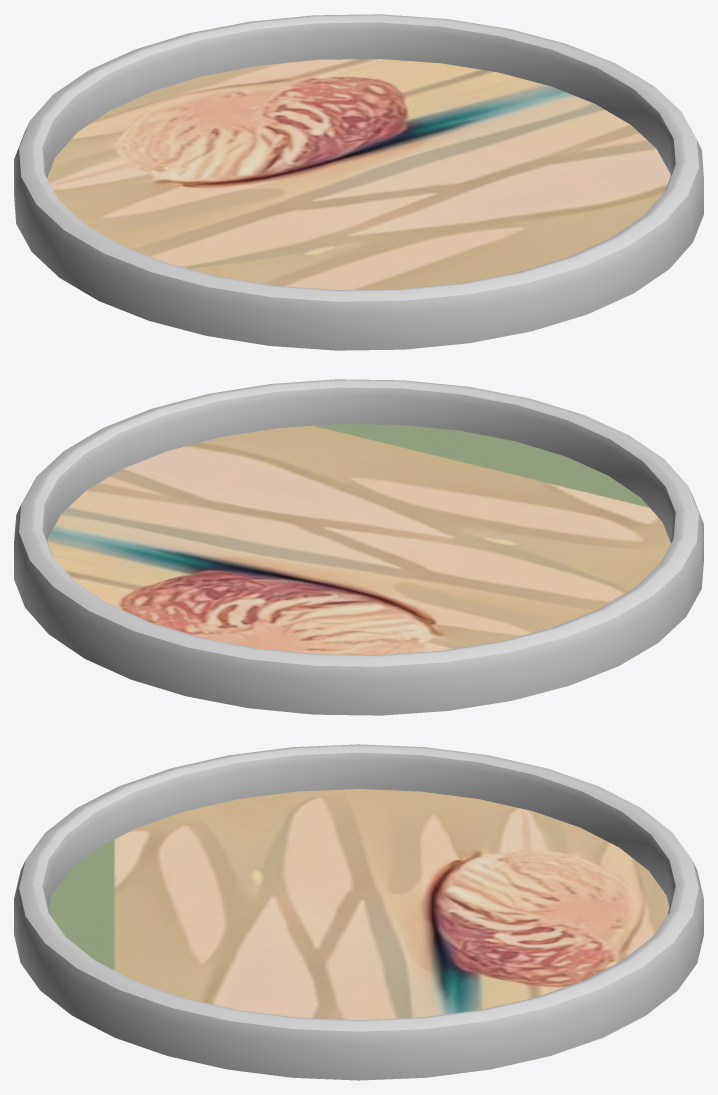
The model's file is RahmenRund (1).fbx.
The picture shows the model from 3 angles, top to bottom: view 1: azimuth 30°, elevation 25°; view 2: azimuth 150°, elevation 25°; view 3: azimuth 270°, elevation 25°; orthographic projection.
Parts seen in each view (by area): view 1: Cylinder.001; view 2: Cylinder.001; view 3: Cylinder.001.
Part boxes in pixels (x1,y1,x2,y2): Cylinder.001: [14, 14, 703, 350]; Cylinder.001: [14, 379, 703, 715]; Cylinder.001: [14, 744, 703, 1080].
Size of the model in its own units: 208 by 16.99 by 208.
